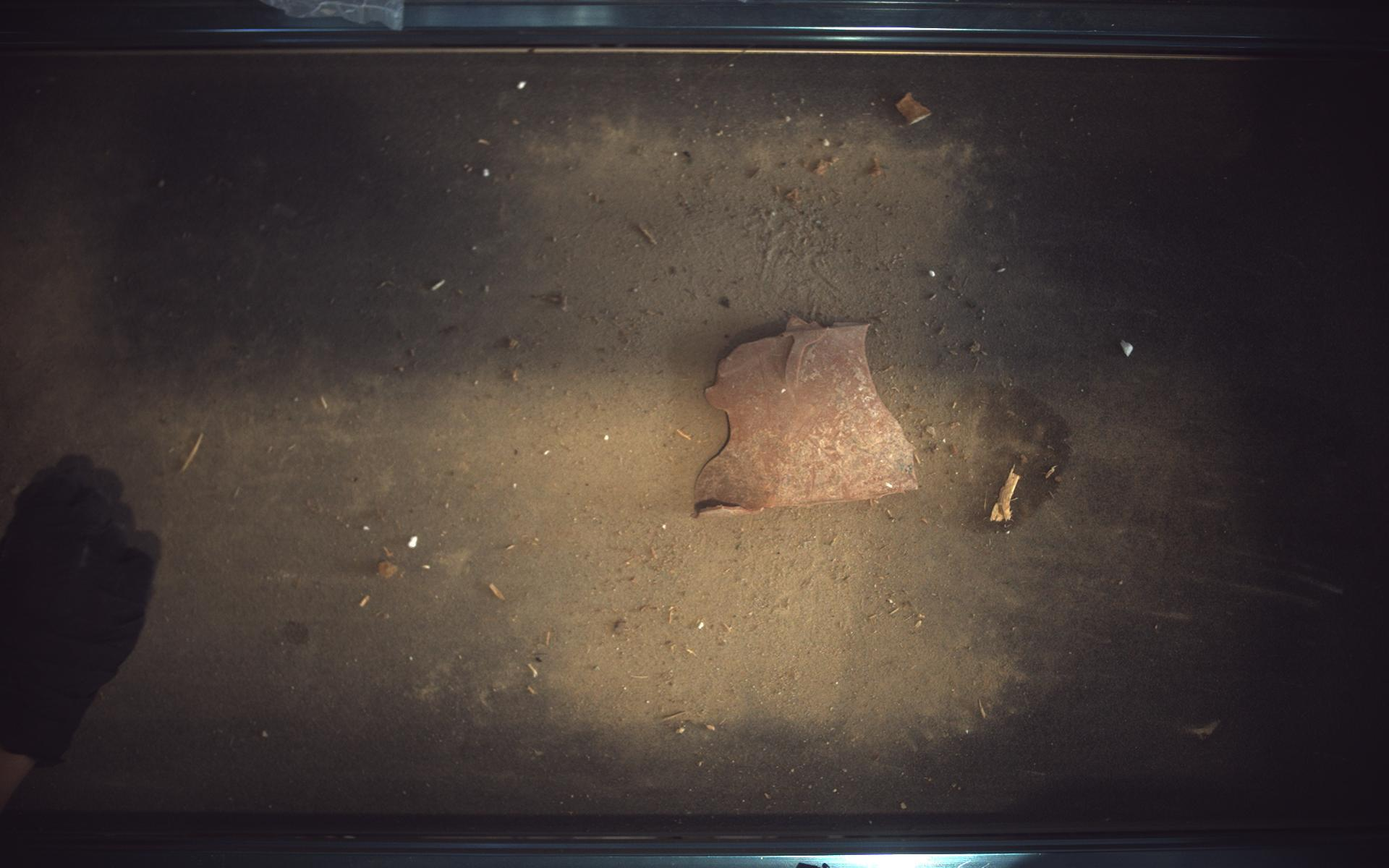plastic: (695, 316, 919, 516)
